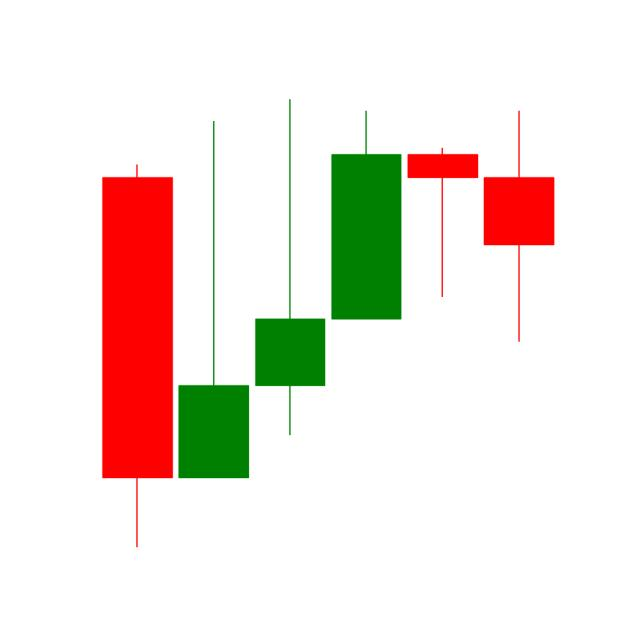Hanging Man: (403, 146, 481, 298)
Inverted Hammer: (178, 116, 252, 482), (255, 95, 328, 440)
